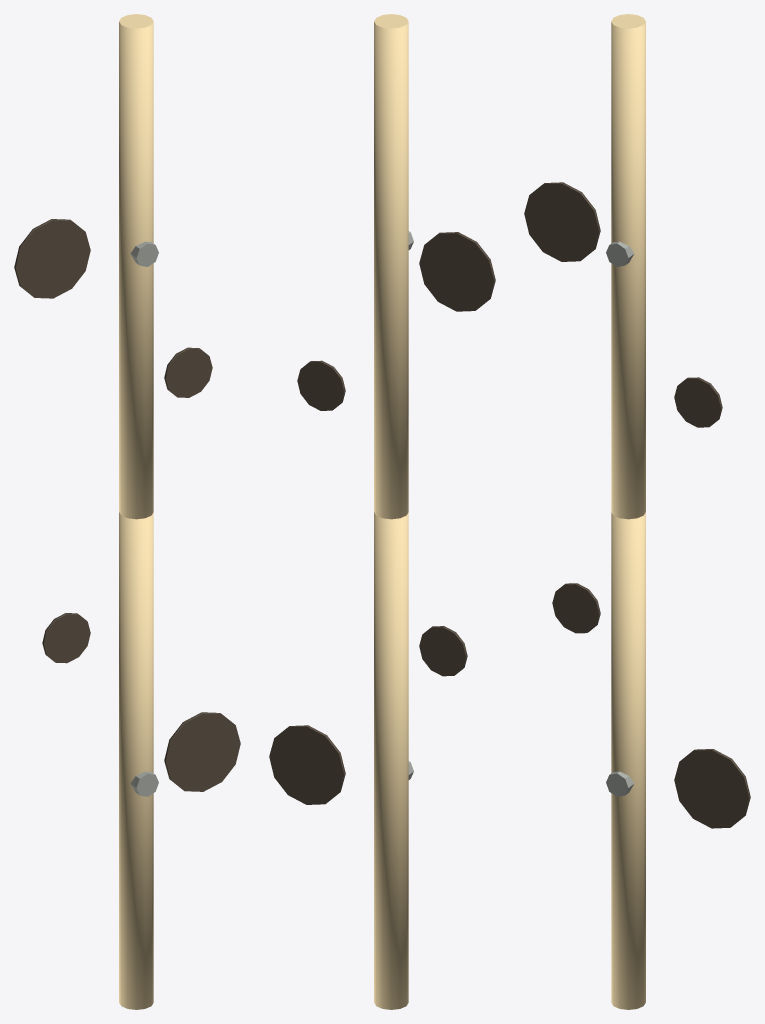
Rendered from drip_m05.obj.
3 views of the same model, side by side, from view 1: azimuth 30°, elevation 25°; view 2: azimuth 150°, elevation 25°; view 3: azimuth 330°, elevation 25° (orthographic).
Visible parts, largest first — view 1: hose4, hose1, wet1_0, wet4_0, wet4_1, wet1_1, emitter1, emitter4; view 2: hose4, hose1, wet4_0, wet1_0, wet1_1, wet4_1; view 3: hose4, hose1, wet1_0, wet4_0, wet1_1, wet4_1, emitter1, emitter4.
Boxes of the visible parts, x1,y1,x2,y2 form: hose4: [119, 14, 153, 519]; hose1: [119, 512, 153, 1009]; wet1_0: [164, 712, 240, 791]; wet4_0: [14, 219, 90, 298]; wet4_1: [164, 347, 212, 397]; wet1_1: [42, 613, 90, 663]; emitter1: [130, 771, 158, 796]; emitter4: [130, 241, 158, 266]; hose4: [374, 14, 408, 519]; hose1: [374, 512, 408, 1009]; wet4_0: [419, 232, 495, 311]; wet1_0: [269, 725, 345, 804]; wet1_1: [419, 626, 467, 676]; wet4_1: [297, 360, 345, 410]; hose4: [611, 14, 645, 519]; hose1: [611, 512, 645, 1009]; wet1_0: [674, 749, 750, 828]; wet4_0: [524, 182, 600, 261]; wet1_1: [552, 583, 600, 633]; wet4_1: [674, 377, 722, 427]; emitter1: [606, 771, 634, 796]; emitter4: [606, 241, 634, 266].
Size of the model in its own units: 0.24 by 1 by 0.039.
Materials: 3 (3 with a texture image).
